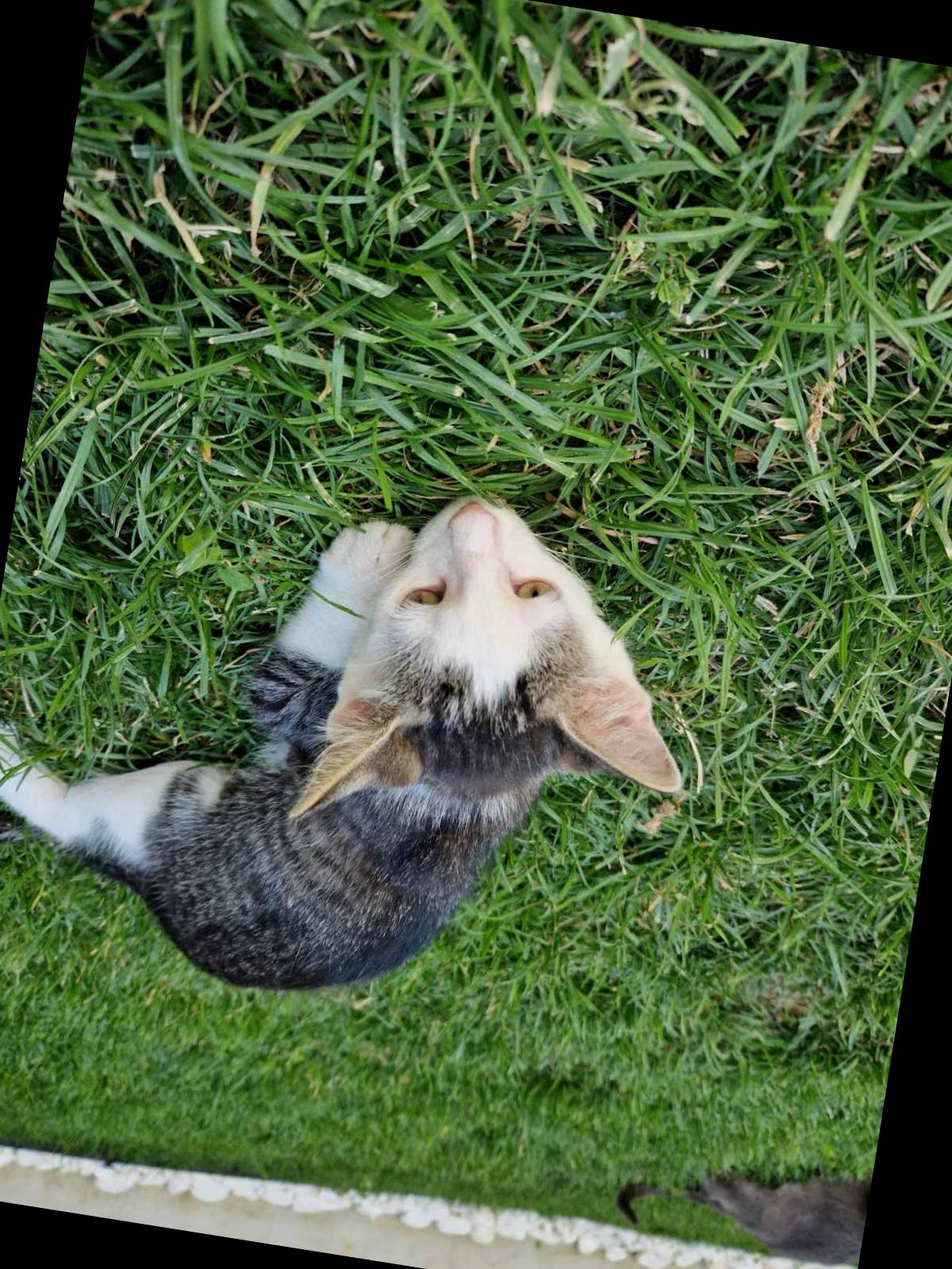macka: (0, 417, 723, 1052), (605, 1137, 872, 1269)
